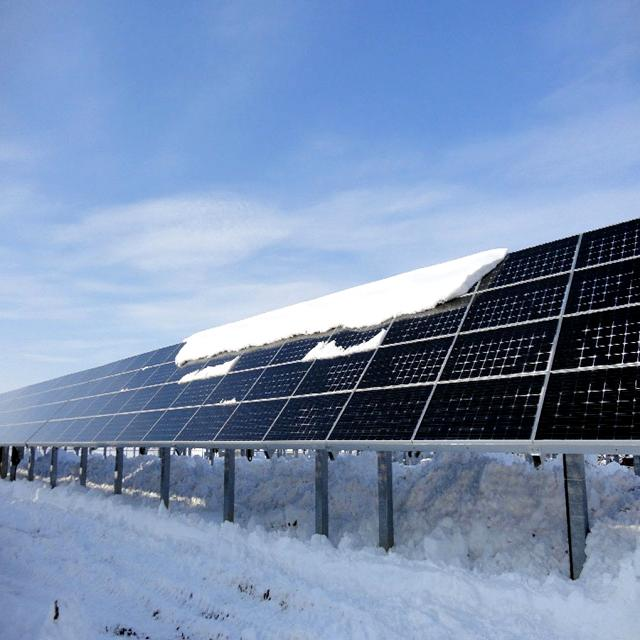panel: (376, 274, 444, 326), (173, 337, 248, 382), (442, 249, 507, 295), (302, 330, 400, 358), (240, 329, 288, 353), (208, 390, 250, 414)
